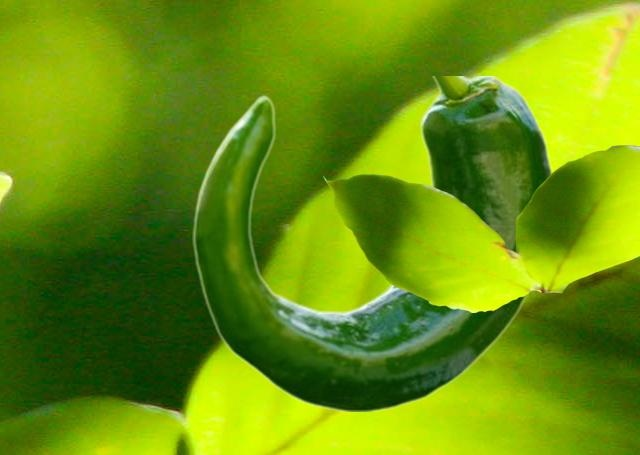green_chili: (192, 76, 555, 410)
